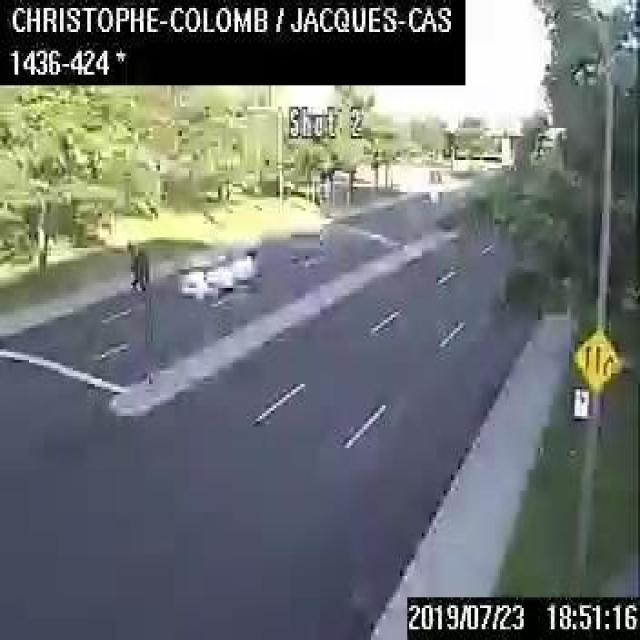pedestrian: (130, 242, 146, 288)
vehicle: (176, 254, 216, 296), (224, 243, 260, 279), (202, 250, 232, 288)
